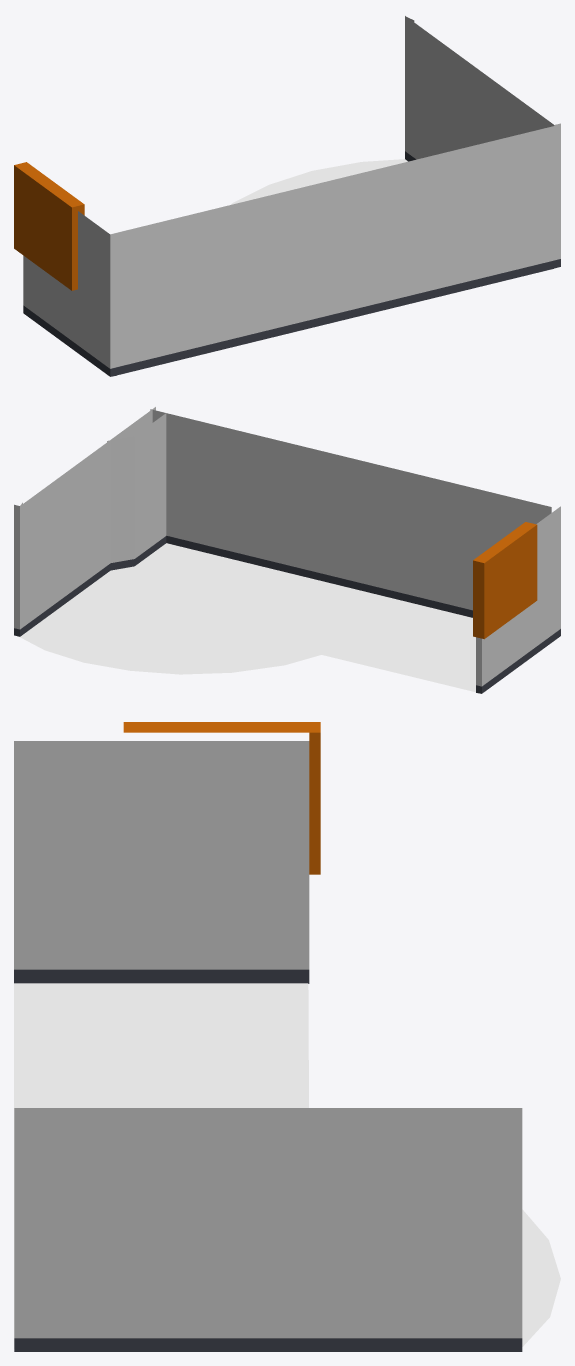
The picture shows the model from 3 angles, top to bottom: view 1: azimuth 30°, elevation 25°; view 2: azimuth 150°, elevation 25°; view 3: azimuth 270°, elevation 25°; orthographic projection. The views are drawn at different scales.
Parts seen in each view (by area): view 1: Local_3; view 2: Local_3; view 3: Local_3.
Part boxes in pixels (x1=…): Local_3: x1=14, y1=16, x2=560, y2=376; Local_3: x1=14, y1=407, x2=560, y2=693; Local_3: x1=14, y1=722, x2=560, y2=1351.
Bounding box in the file's own units: 0.5834 × 0.1802 × 0.3557.
